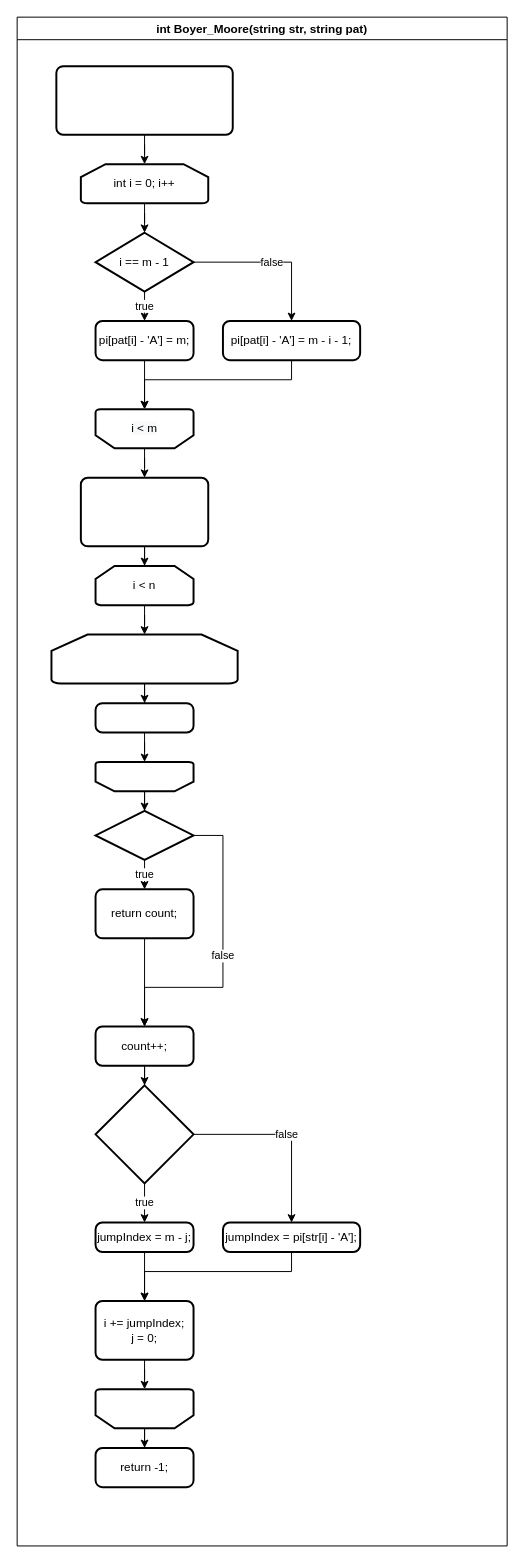
The diagram is 524 pixels wide and 1563 high, and some of its shapes have lost their labels. The shapes that lost their labels are listed below. From the top down, each one's box as (x1, y1, x2, y2) in pixels, then its label:
(55, 65, 233, 135): int m = (int)pat.size(); int j = 0; int pi[26] = { 0, }; int count = 0;
(79, 476, 209, 547): int n = (int)str.size(); int jumpIndex = 0; int i = m - 1;
(50, 633, 238, 684): j < m && str[(i - j)] == pat[m - 1 - j]
(94, 702, 194, 733): count++; j++;
(94, 809, 194, 860): j == m
(94, 1084, 194, 1184): pi[str[i] - 'A'] == 0 || pi[str[i] - 'A'] == m
